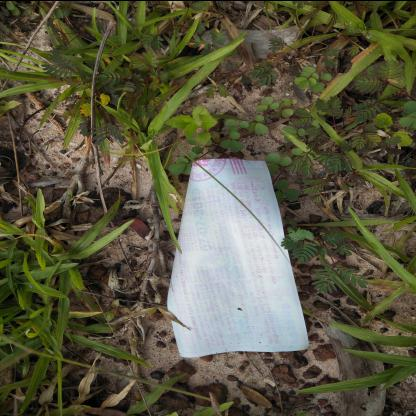kagit: (164, 157, 310, 357)
